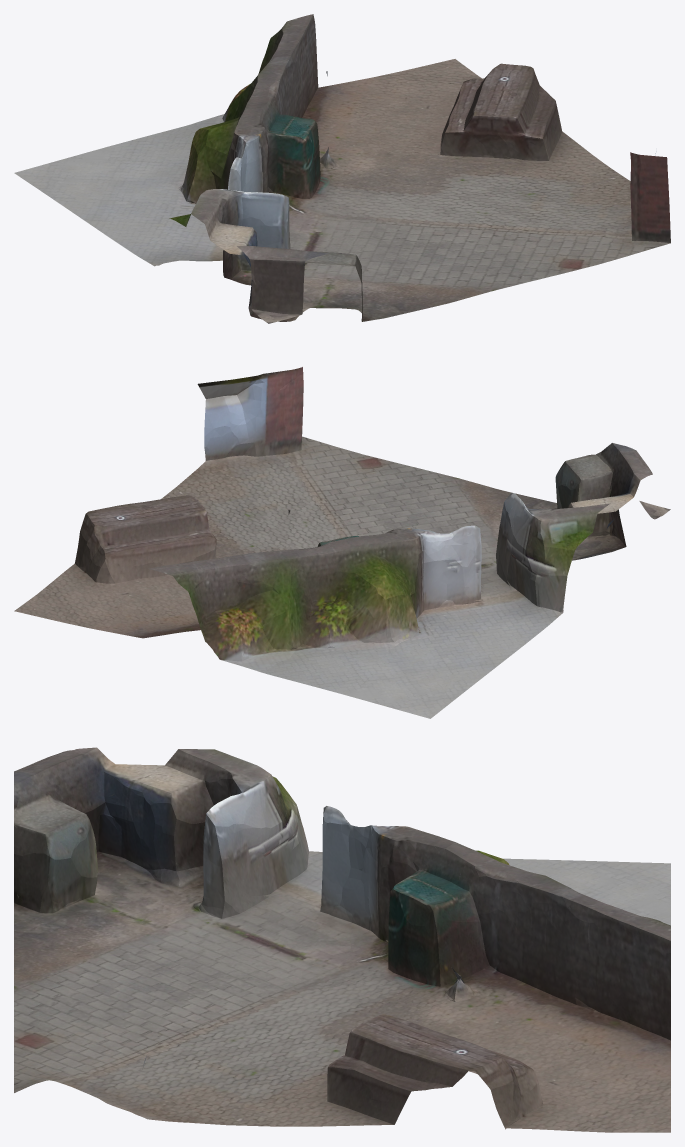
3 views of the same model, one above another, from view 1: azimuth 30°, elevation 25°; view 2: azimuth 150°, elevation 25°; view 3: azimuth 270°, elevation 25° (orthographic). The views are drawn at different scales.
Size of the model in its own units: 8.36 by 1.9 by 8.36.
Materials: 3 (3 with a texture image).
